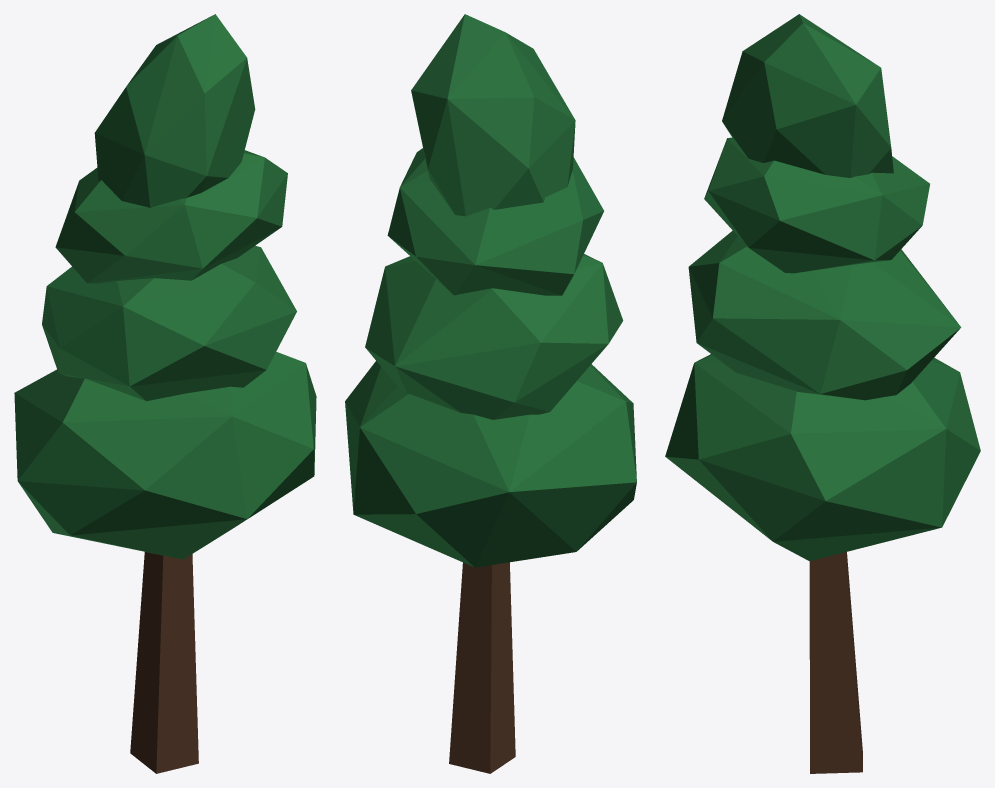
File: Tree_6.fbx
3 renders of one model, left to right at view 1: azimuth 30°, elevation 25°; view 2: azimuth 150°, elevation 25°; view 3: azimuth 270°, elevation 25°, orthographic. The views are drawn at different scales.
Visible parts, largest first — view 1: M_Tree 6; view 2: M_Tree 6; view 3: M_Tree 6.
Part boxes in pixels (x1=…): M_Tree 6: x1=14, y1=14, x2=316, y2=773; M_Tree 6: x1=345, y1=14, x2=636, y2=773; M_Tree 6: x1=665, y1=14, x2=980, y2=773.
Size of the model in its own units: 0.7556 by 1.8 by 0.6816.
1 material, 1 textured.
